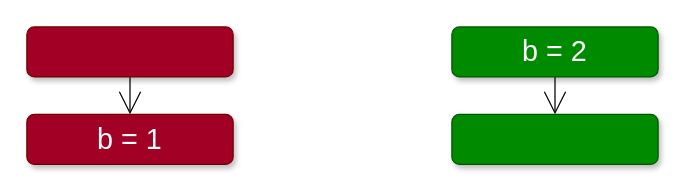
Image size: 688x195. Some labels were removed from this diagram. The shapes that lost their labels are listed below. From the top down, each one's centre as x and y in pixels, then its label:
the point at 131,53: a = 1
the point at 556,140: a = 2
